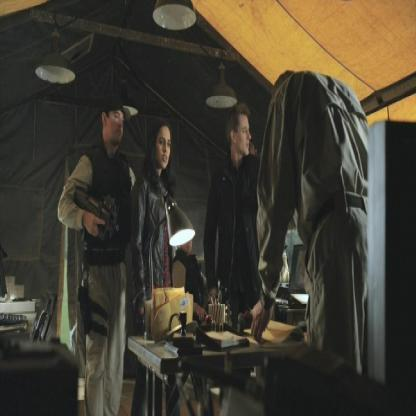Guns: (70, 183, 123, 244)
